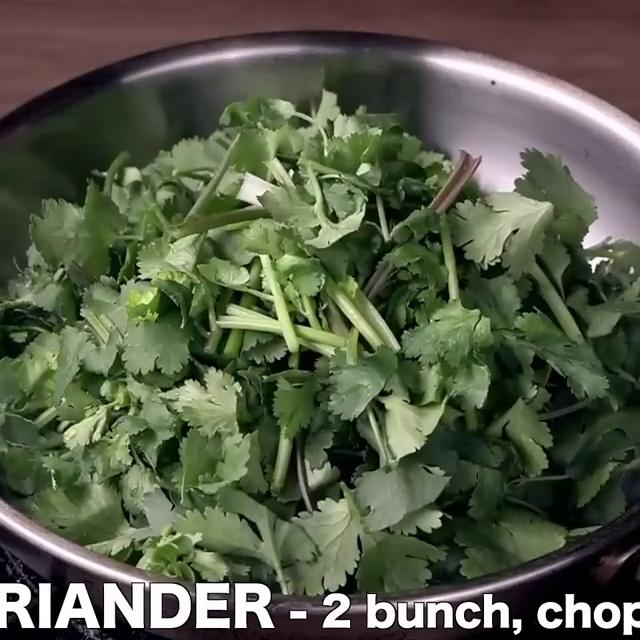cilantro: (31, 137, 640, 558)
